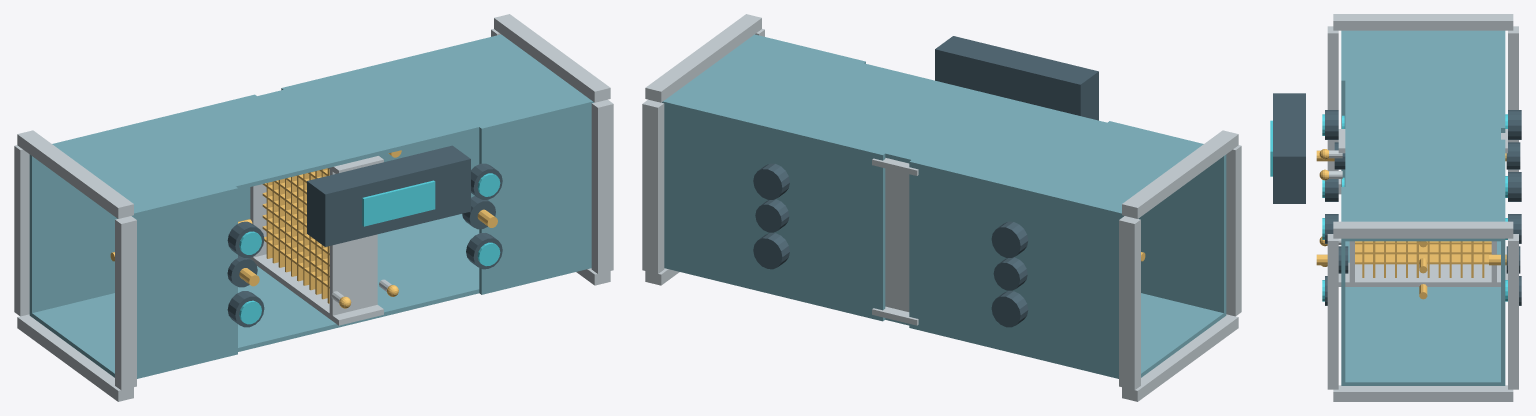
The model's file is FILTER-LAG-test-spool.glb.
3 renders of one model, left to right at view 1: azimuth 30°, elevation 25°; view 2: azimuth 150°, elevation 25°; view 3: azimuth 270°, elevation 25°, orthographic. The views are drawn at different scales.
Parts seen in each view (by area): view 1: wall, metal, dark, amber, cyan; view 2: wall, metal, dark; view 3: wall, metal, dark, amber, cyan.
Part boxes in pixels (box(x1,y1,x2,y2)): wall: box(29, 34, 593, 378); metal: box(14, 14, 613, 401); dark: box(227, 145, 502, 327); amber: box(110, 150, 497, 308); cyan: box(239, 173, 500, 324); wall: box(662, 34, 1226, 378); metal: box(642, 14, 1241, 401); dark: box(753, 36, 1098, 327); wall: box(1341, 30, 1505, 385); metal: box(1327, 14, 1518, 401); dark: box(1273, 93, 1521, 305); amber: box(1316, 149, 1506, 299); cyan: box(1270, 114, 1507, 301).
Size of the model in its own units: 0.372 by 0.14 by 0.184.
